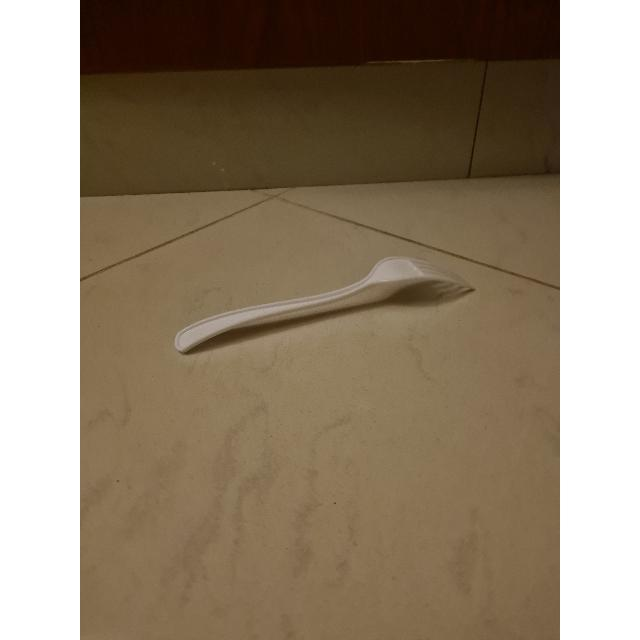Plastico descartable: (175, 258, 471, 352)
